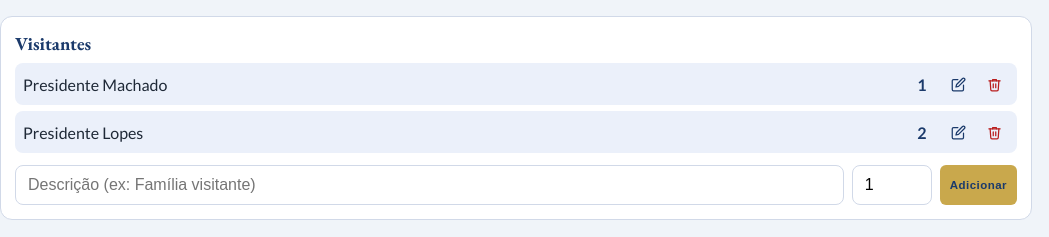
it: VisitorEntry › adds a new visitor on form submission and clears input
This screenshot has width=1049, height=237.
Type "Família Santos" into the dropdown with placeholder "Descrição (ex: Família visitante)". click: (429, 185)
box: [15, 165, 844, 205]
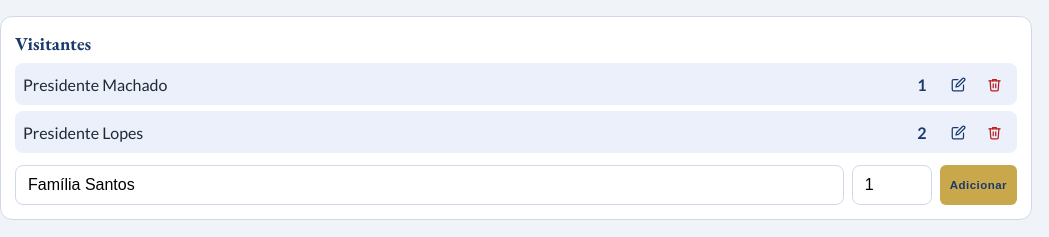
Replace the text in the number field named "Quantidade de visitantes" with "3". click: (892, 185)
box: [852, 165, 932, 205]
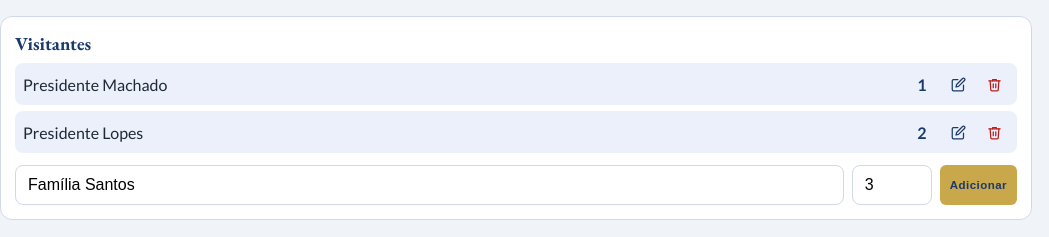
Click the button "Adicionar". click: (978, 185)
box: [940, 165, 1017, 205]
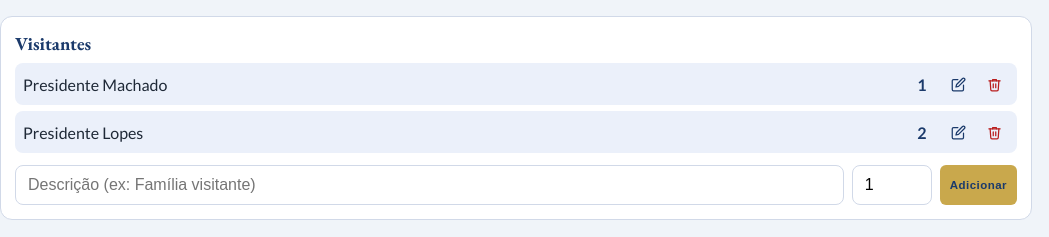
Expected: the dropdown with placeholder "Descrição (ex: Família visitante)" is empty, [15, 165, 844, 205]
Expected: the number field named "Quantidade de visitantes" holds "1", [852, 165, 932, 205]
